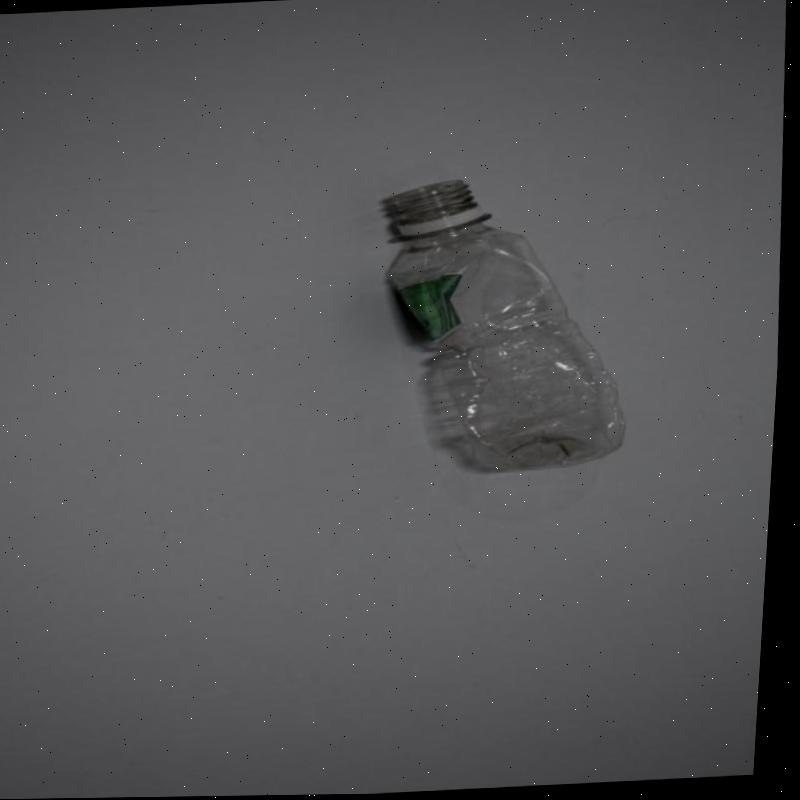botella: (371, 170, 644, 480)
